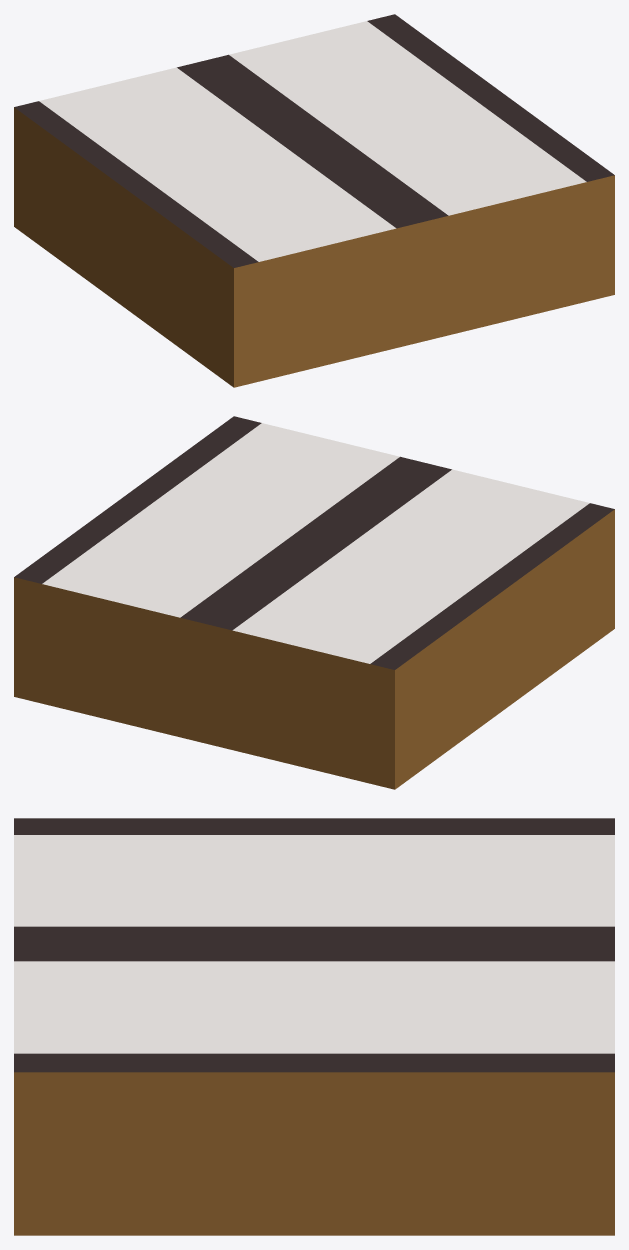
Rendered from crosswalk_floor2.fbx.
The picture shows the model from 3 angles, top to bottom: view 1: azimuth 30°, elevation 25°; view 2: azimuth 150°, elevation 25°; view 3: azimuth 270°, elevation 25°; orthographic projection. The views are drawn at different scales.
Visible parts, largest first — view 1: crosswalk_floor2; view 2: crosswalk_floor2; view 3: crosswalk_floor2.
Boxes of the visible parts, x1,y1,x2,y2 form: crosswalk_floor2: (14, 14, 614, 387); crosswalk_floor2: (14, 416, 614, 789); crosswalk_floor2: (14, 818, 614, 1235).
Bounding box in the file's own units: 100 × 100 × 30.
